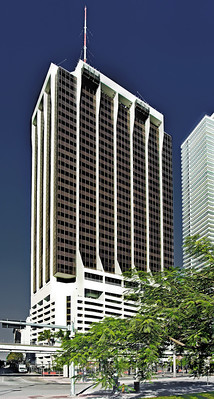medium: (23, 56, 176, 365)
